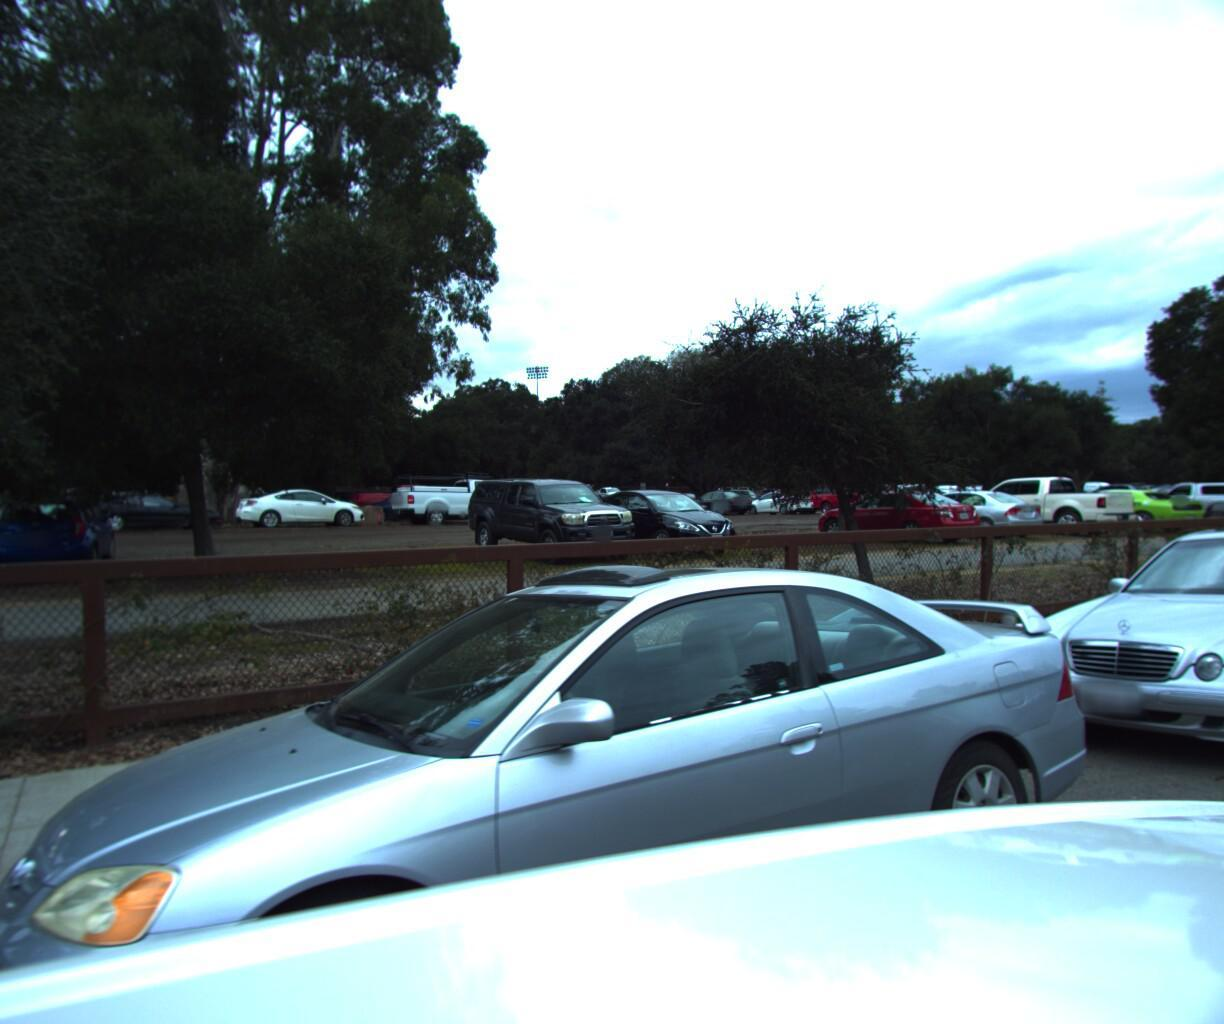car: (0, 524, 1140, 1024), (984, 498, 1224, 815)
